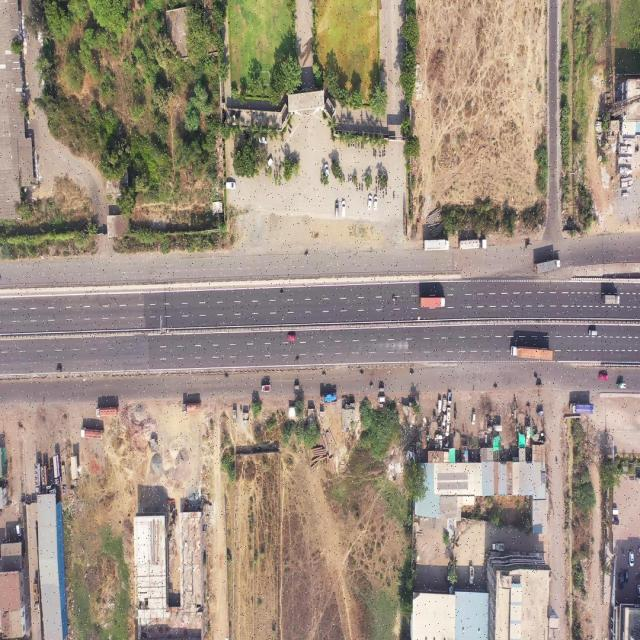3W: (493, 424, 502, 434), (616, 382, 626, 389), (537, 409, 544, 416), (378, 386, 384, 393), (526, 243, 532, 249), (294, 384, 300, 390), (536, 384, 542, 389)
Cars: (629, 550, 634, 569), (16, 525, 23, 538), (266, 157, 273, 169), (325, 164, 330, 179), (287, 334, 296, 342), (599, 373, 608, 381), (226, 182, 236, 189), (373, 196, 378, 210), (588, 329, 598, 336), (471, 412, 476, 426), (342, 200, 346, 217), (446, 421, 450, 437), (442, 396, 446, 412), (612, 507, 619, 516), (368, 195, 372, 210), (624, 569, 628, 584), (335, 200, 338, 217), (613, 517, 619, 525), (438, 398, 441, 413), (379, 397, 385, 403)
LCV: (492, 543, 505, 552), (469, 565, 474, 585), (447, 391, 454, 405), (261, 385, 271, 392)
M2W: (304, 252, 309, 258), (369, 384, 374, 390), (635, 145, 638, 154), (384, 146, 386, 157), (382, 148, 384, 158), (359, 182, 361, 192), (356, 183, 358, 193), (343, 172, 345, 182), (296, 357, 300, 362), (533, 375, 538, 379), (556, 456, 558, 466), (379, 149, 381, 158), (373, 149, 375, 158), (361, 141, 363, 150), (361, 183, 363, 192), (350, 174, 352, 183), (393, 192, 395, 200), (376, 176, 378, 184), (362, 174, 364, 182), (392, 298, 396, 302), (280, 291, 284, 295), (225, 375, 229, 379), (494, 385, 498, 389), (376, 186, 378, 193), (375, 149, 377, 156), (358, 142, 360, 149), (322, 373, 326, 376), (411, 372, 415, 375), (360, 372, 364, 375), (380, 186, 382, 191), (348, 173, 349, 183), (383, 191, 384, 199), (386, 189, 387, 196), (378, 183, 379, 190), (348, 142, 349, 148), (351, 143, 352, 149), (353, 143, 354, 149)
MAV: (510, 345, 553, 361), (534, 258, 561, 274), (424, 239, 449, 252), (420, 297, 446, 309), (81, 427, 104, 440), (458, 240, 487, 250), (97, 406, 119, 417), (53, 453, 60, 487), (34, 462, 41, 494), (182, 401, 200, 413), (33, 582, 39, 612)
Truck: (569, 402, 593, 414), (319, 393, 337, 404), (602, 295, 620, 304)
